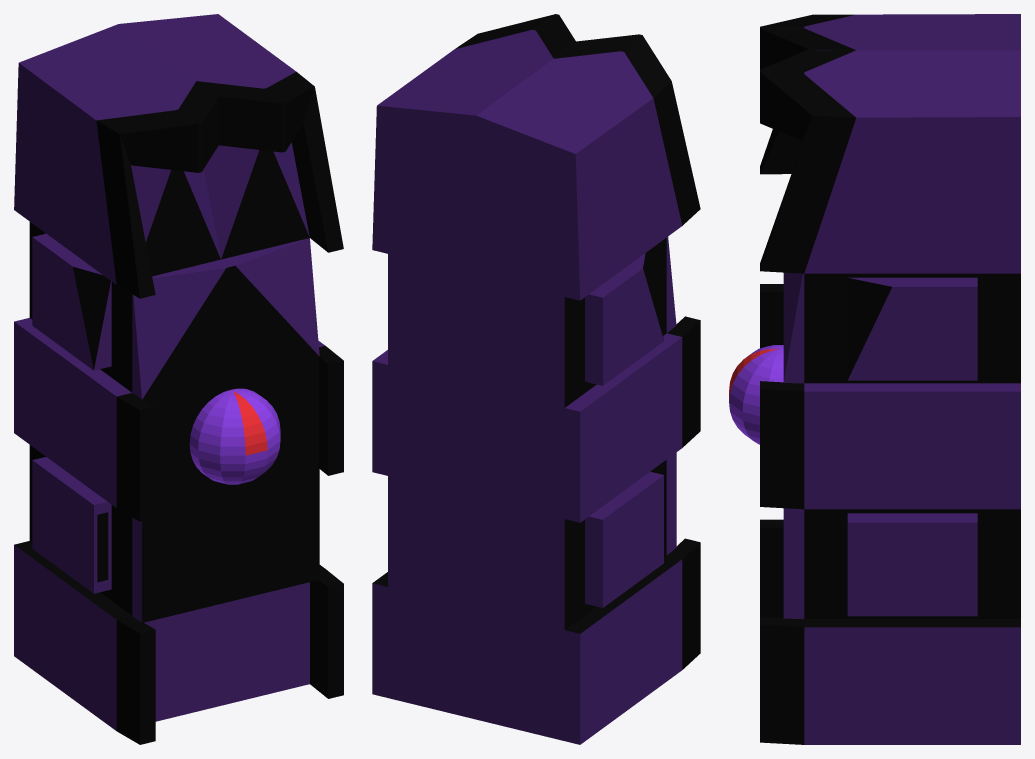
Rendered from RotateLinkCabinet.fbx.
The picture shows the model from 3 angles, left to right: view 1: azimuth 30°, elevation 25°; view 2: azimuth 150°, elevation 25°; view 3: azimuth 270°, elevation 25°; orthographic projection. The views are drawn at different scales.
Parts seen in each view (by area): view 1: Cabinet, RotateLink; view 2: Cabinet; view 3: Cabinet, RotateLink.
Boxes of the visible parts, <box> form: Cabinet: <box>14,14,343,744</box>; RotateLink: <box>189,388,280,484</box>; Cabinet: <box>372,14,700,744</box>; Cabinet: <box>760,14,1020,744</box>; RotateLink: <box>729,345,783,444</box>.
Size of the model in its own units: 120 by 327 by 135.
